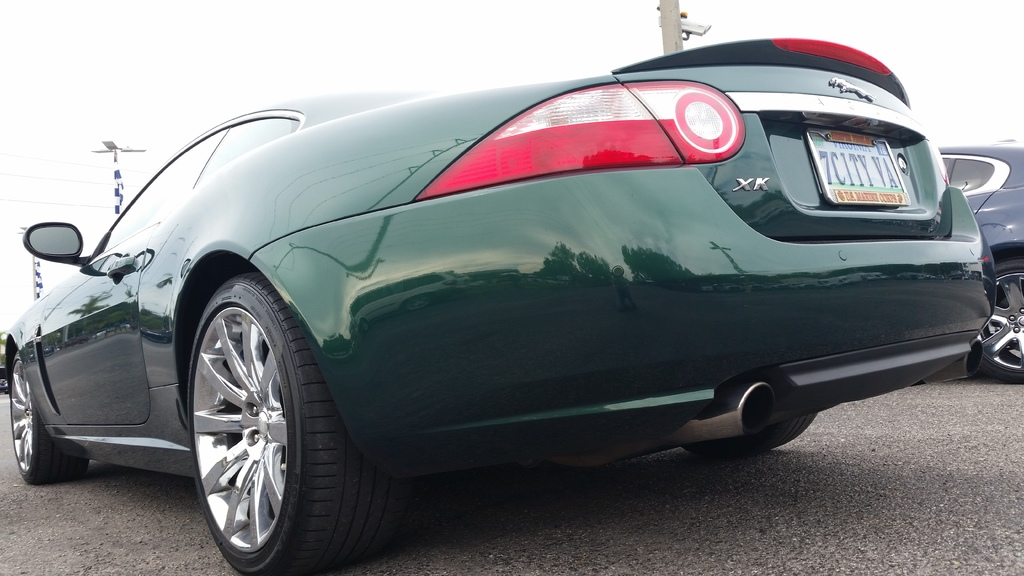Car: (5, 37, 996, 575), (938, 139, 1024, 382)
